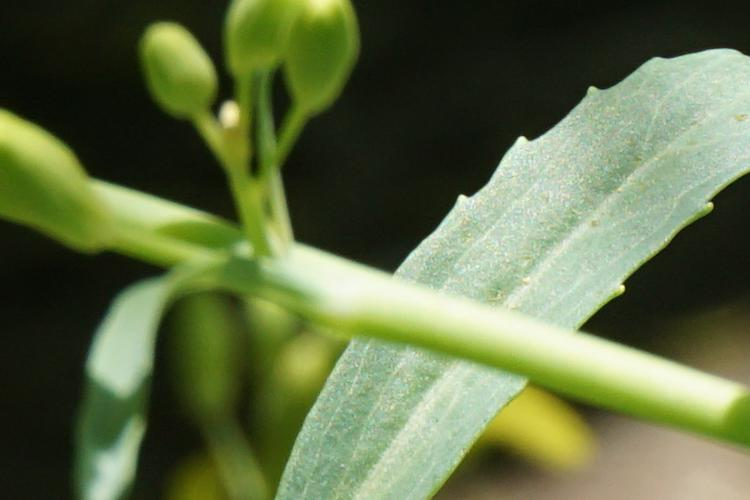bud: (288, 2, 364, 122), (149, 32, 211, 113), (233, 11, 290, 79)
